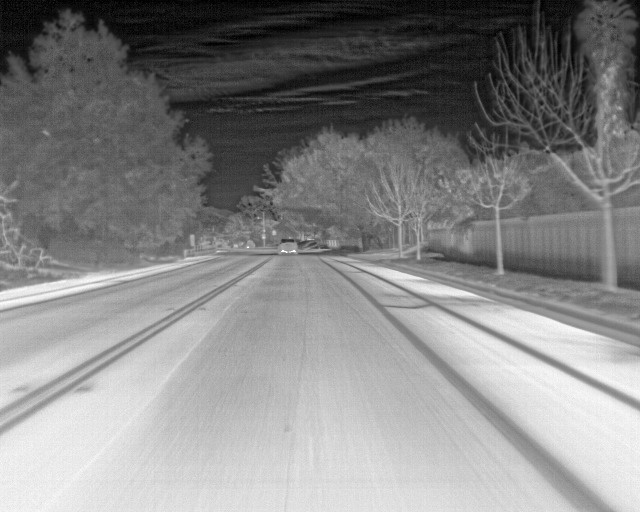vehicle: (278, 237, 301, 255)
